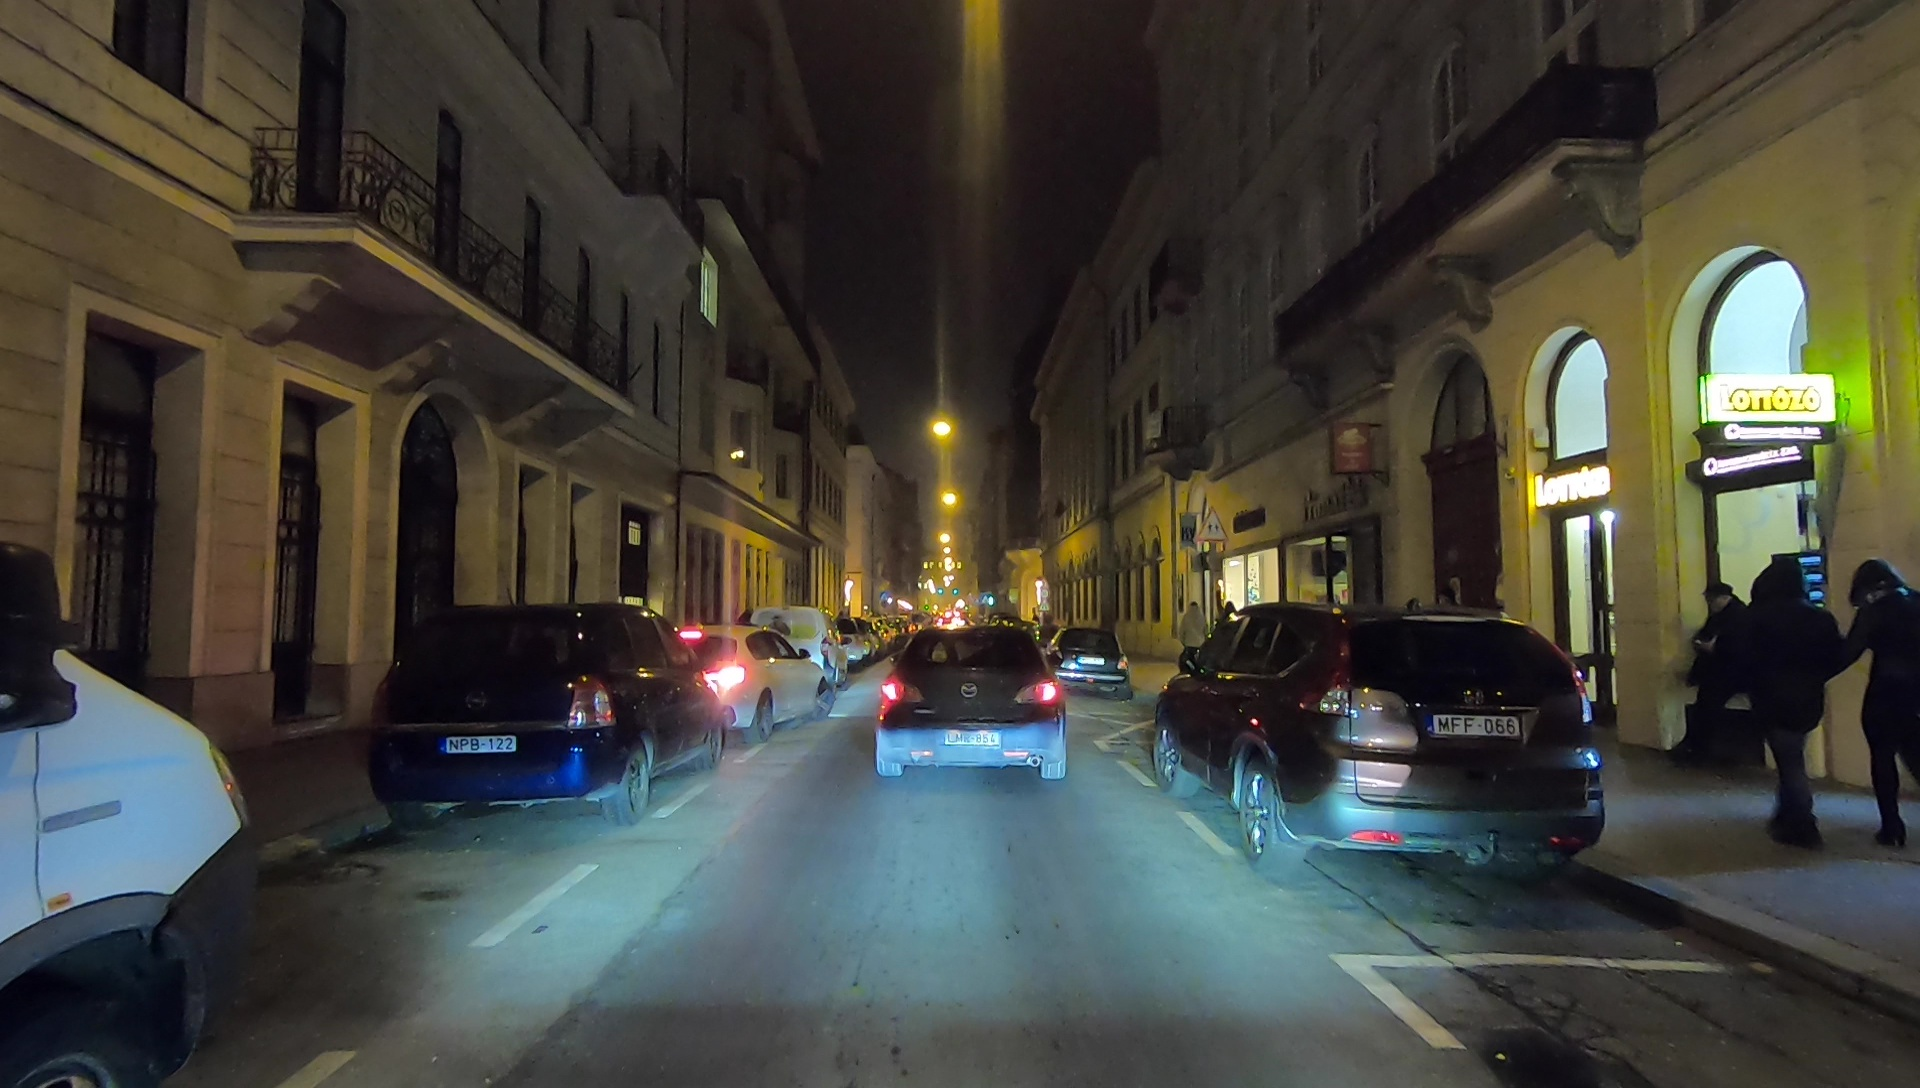person: (1743, 560, 1830, 860), (1839, 556, 1920, 845), (1678, 578, 1749, 778), (1180, 602, 1208, 678)
